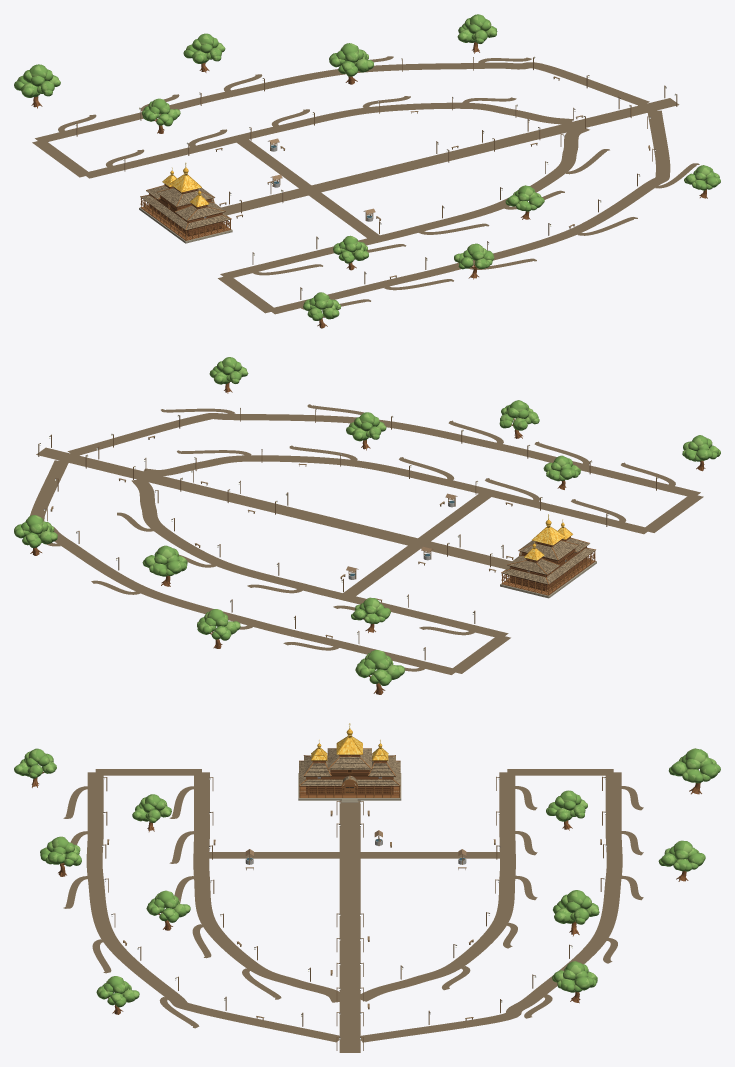
The model's file is bz_misc.glb.
The picture shows the model from 3 angles, top to bottom: view 1: azimuth 30°, elevation 25°; view 2: azimuth 150°, elevation 25°; view 3: azimuth 270°, elevation 25°; orthographic projection. The views are drawn at different scales.
Parts seen in each view (by area): view 1: Дороги, Церква_Дахи, Дерево_02_Крона, Дерево_05_Крона, Дерево_Крона, Дерево_03_Крона, Церква_Колоди, Дерево_06_Крона, Дерево_07_Крона, Дерево_04_Крона, Дерево_09_Крона, Дерево_10_Крона (+2 smaller); view 2: Дороги, Церква_Дахи, Дерево_02_Крона, Дерево_03_Крона, Дерево_05_Крона, Дерево_Крона, Дерево_07_Крона, Церква_Колоди, Дерево_10_Крона, Дерево_06_Крона, Дерево_08_Крона, Дерево_04_Крона (+2 smaller); view 3: Дороги, Церква_Дахи, Церква_Колоди, Дерево_02_Крона, Дерево_05_Крона, Дерево_03_Крона, Дерево_Крона, Дерево_07_Крона, Дерево_10_Крона, Дерево_04_Крона, Дерево_06_Крона, Дерево_08_Крона (+2 smaller).
Boxes of the visible parts, <box> form: Дороги: <box>32,56,699,314</box>; Церква_Дахи: <box>140,174,231,230</box>; Дерево_02_Крона: <box>14,64,60,97</box>; Дерево_05_Крона: <box>329,43,373,76</box>; Дерево_Крона: <box>183,33,225,63</box>; Дерево_03_Крона: <box>457,14,497,43</box>; Церква_Колоди: <box>149,184,222,236</box>; Дерево_06_Крона: <box>303,292,340,320</box>; Дерево_07_Крона: <box>454,243,494,269</box>; Дерево_04_Крона: <box>142,98,180,126</box>; Дерево_09_Крона: <box>333,235,368,263</box>; Дерево_10_Крона: <box>505,185,544,211</box>; Дороги: <box>30,404,703,674</box>; Церква_Дахи: <box>501,527,595,584</box>; Дерево_02_Крона: <box>355,650,404,685</box>; Дерево_03_Крона: <box>14,515,57,547</box>; Дерево_05_Крона: <box>142,545,187,576</box>; Дерево_Крона: <box>197,609,240,640</box>; Дерево_07_Крона: <box>499,400,539,430</box>; Церква_Колоди: <box>510,536,586,590</box>; Дерево_10_Крона: <box>346,412,386,441</box>; Дерево_06_Крона: <box>682,435,720,461</box>; Дерево_08_Крона: <box>209,357,248,384</box>; Дерево_04_Крона: <box>351,597,390,623</box>; Дороги: <box>63,769,643,1052</box>; Церква_Дахи: <box>299,736,400,787</box>; Церква_Колоди: <box>306,755,393,794</box>; Дерево_02_Крона: <box>668,748,720,783</box>; Дерево_05_Крона: <box>553,890,599,924</box>; Дерево_03_Крона: <box>552,961,597,992</box>; Дерево_Крона: <box>658,840,705,871</box>; Дерево_07_Крона: <box>40,836,81,866</box>; Дерево_10_Крона: <box>146,890,190,922</box>; Дерево_04_Крона: <box>546,790,587,821</box>; Дерево_06_Крона: <box>14,748,56,778</box>; Дерево_08_Крона: <box>96,976,139,1007</box>.
Bounding box in the file's own units: 126 × 13.92 × 133.
